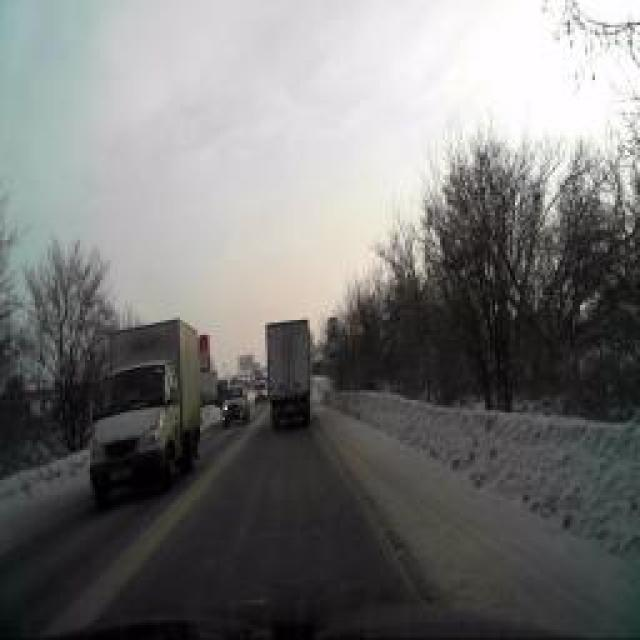sign: (350, 312, 365, 338)
